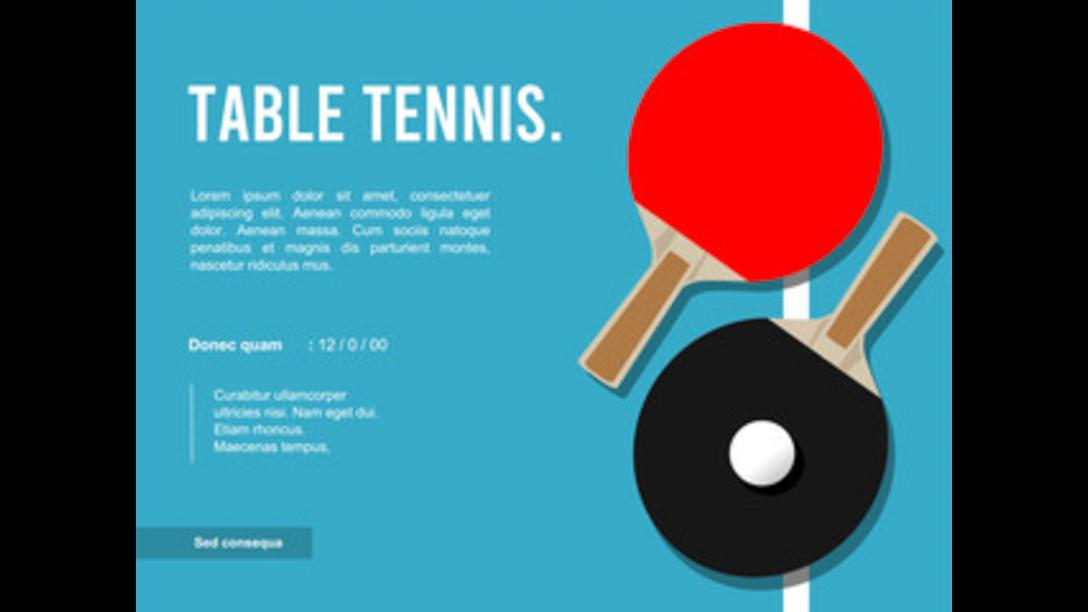Table-Tennis-Ball: (730, 420, 794, 485)
